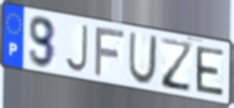9: (27, 15, 58, 71)
E: (194, 44, 226, 98)
F: (93, 26, 127, 79)
J: (63, 23, 90, 74)
U: (127, 31, 159, 87)
Z: (160, 36, 194, 95)
